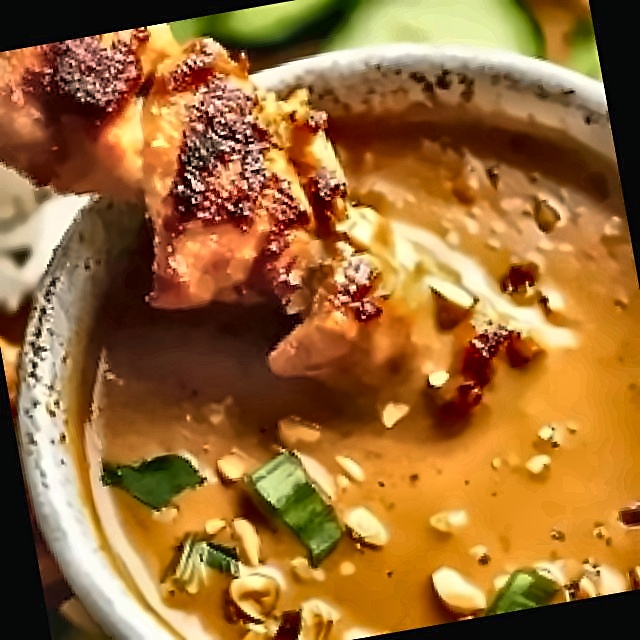cucumber_slice: (315, 0, 545, 93)
satay_skewer: (0, 0, 502, 476)
